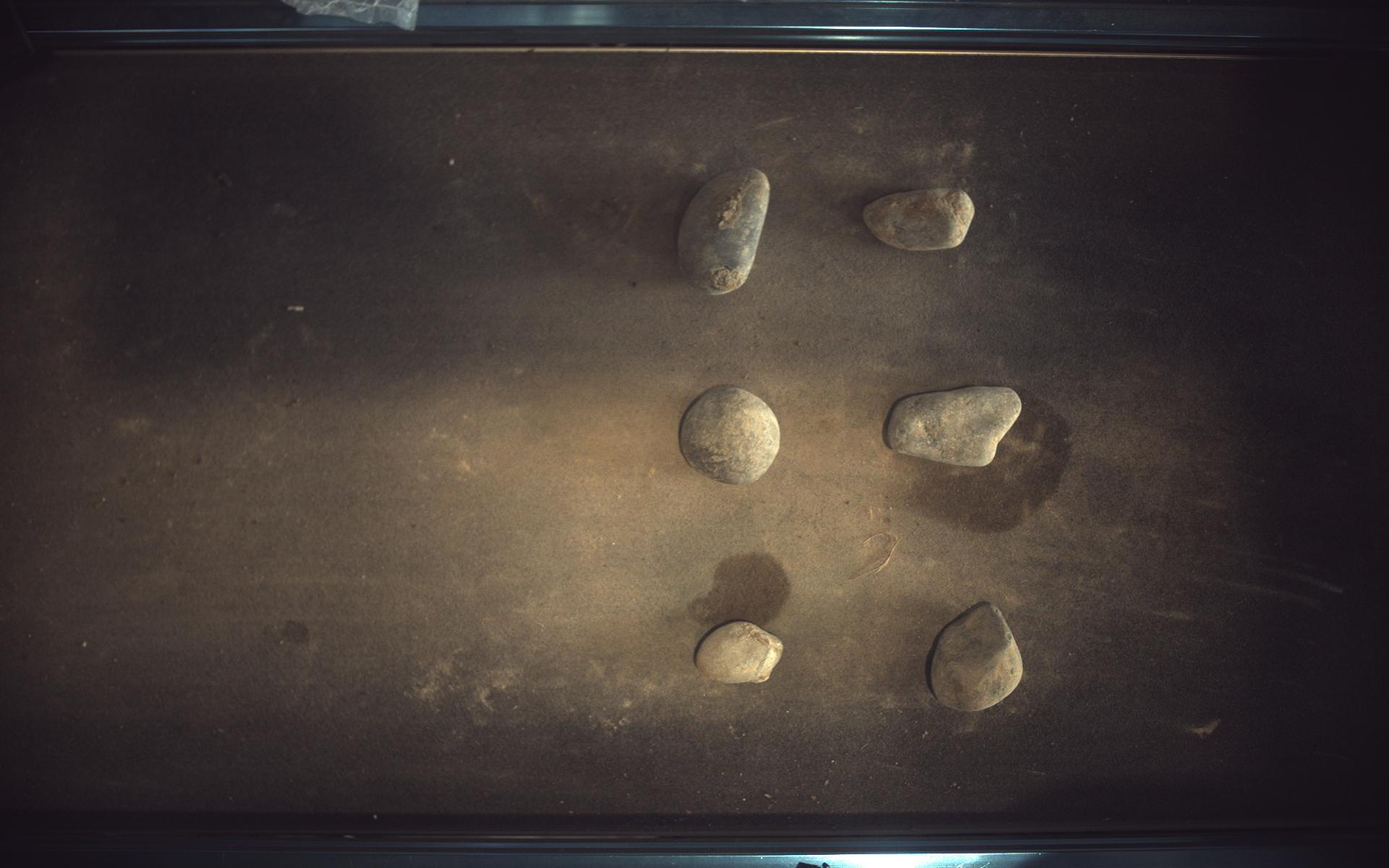stone: (679, 167, 771, 294), (888, 386, 1023, 467), (931, 603, 1025, 712), (680, 385, 781, 485), (865, 187, 977, 250), (696, 622, 785, 684)
